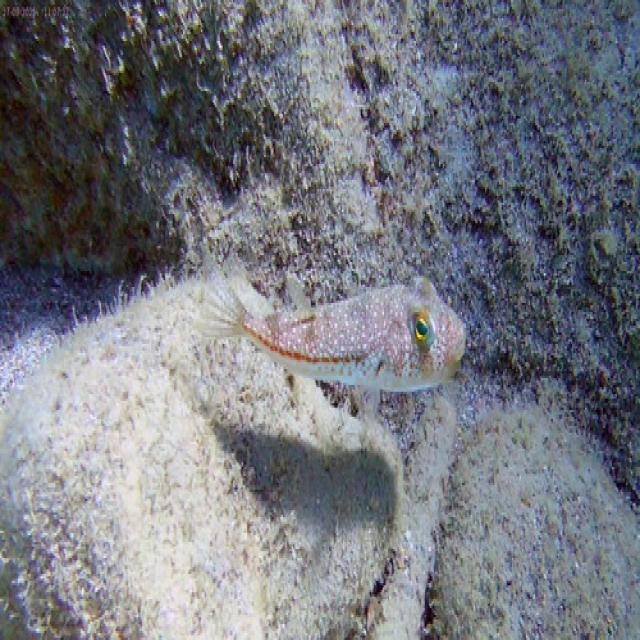Balik: (201, 276, 464, 391)
